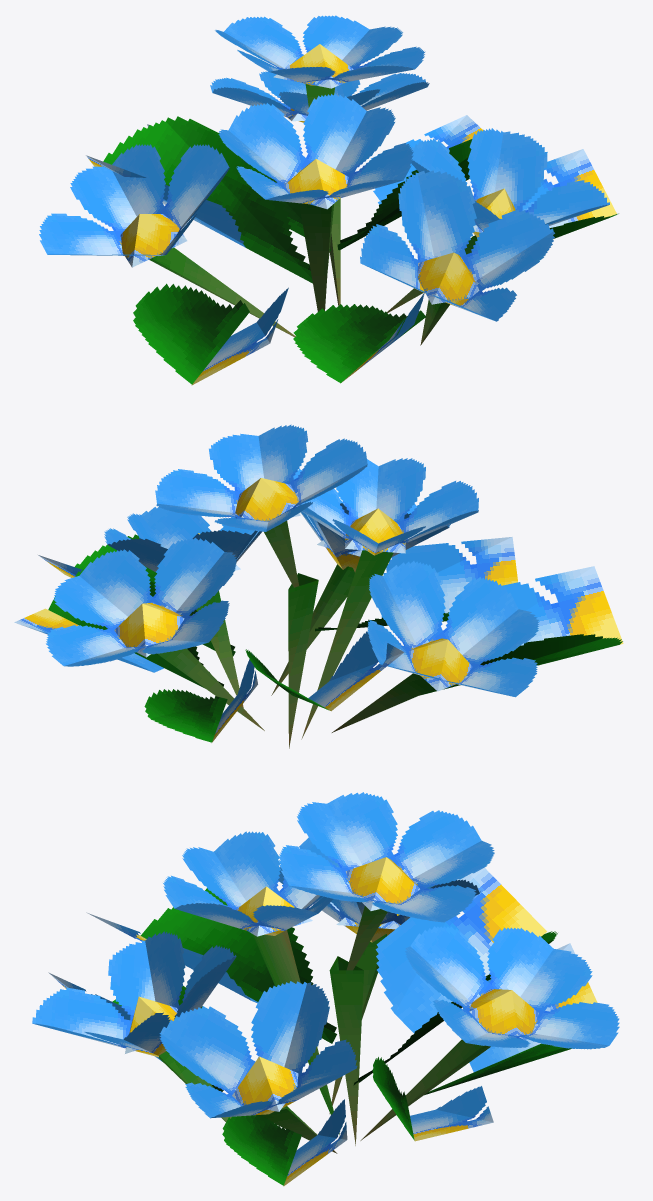
Rendered from FlowerBlue.dae.
3 views of the same model, one above another, from view 1: azimuth 30°, elevation 25°; view 2: azimuth 150°, elevation 25°; view 3: azimuth 270°, elevation 25° (orthographic). The views are drawn at different scales.
Visible parts, largest first — view 1: m0; view 2: m0; view 3: m0.
Part boxes in pixels (bbox=[...]): m0: bbox=[39, 15, 618, 385]; m0: bbox=[14, 424, 623, 748]; m0: bbox=[32, 792, 619, 1186].
Size of the model in its own units: 183 by 99.62 by 174.
1 material, 1 textured.
